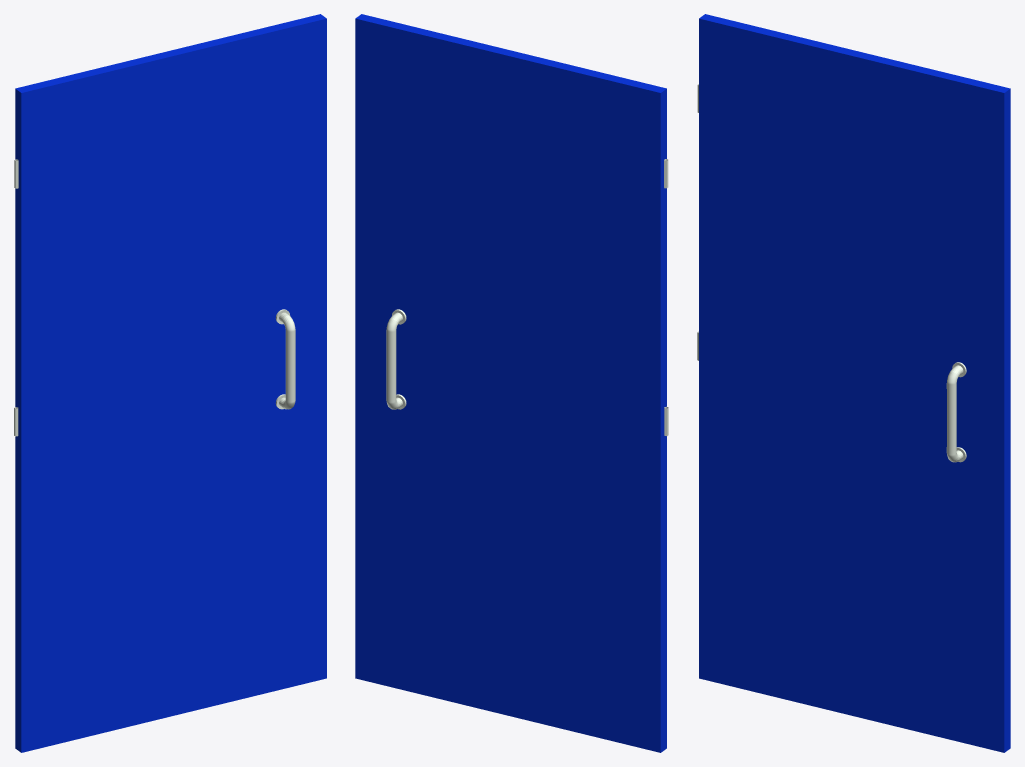
Rendered from puertabaño.fbx.
3 views of the same model, side by side, from view 1: azimuth 30°, elevation 25°; view 2: azimuth 150°, elevation 25°; view 3: azimuth 330°, elevation 25° (orthographic).
Visible parts, largest first — view 1: pCylinder5; view 2: pCylinder5; view 3: pCylinder5.
Boxes of the visible parts, x1,y1,x2,y2 form: pCylinder5: (14, 14, 326, 752); pCylinder5: (355, 14, 668, 752); pCylinder5: (697, 14, 1010, 752).
Bounding box in the file's own units: 122 × 248 × 18.91.
